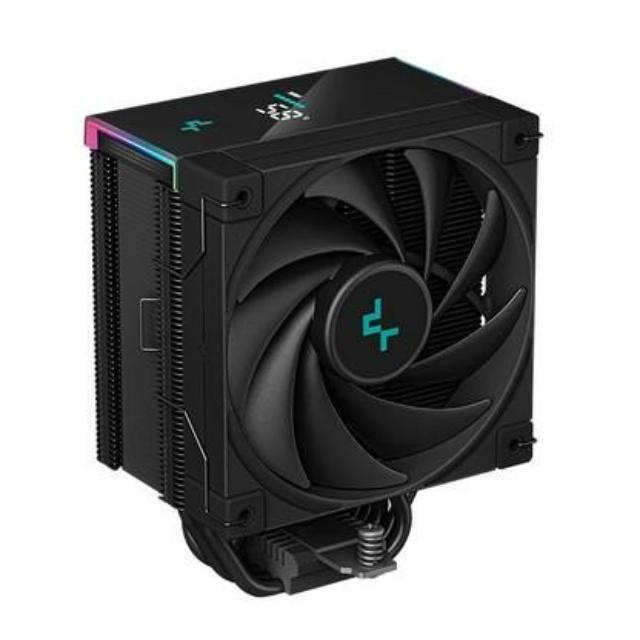CPU_Fan: (63, 41, 554, 599)
